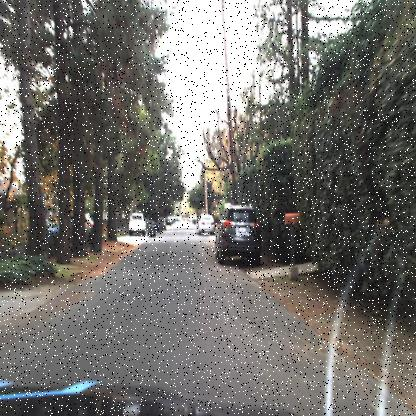car: (212, 199, 266, 275), (127, 209, 148, 234), (196, 211, 214, 236)
